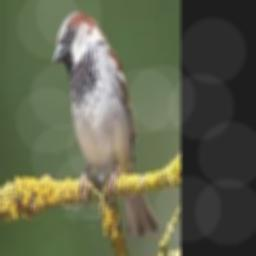Sparrow: (52, 9, 157, 235)
